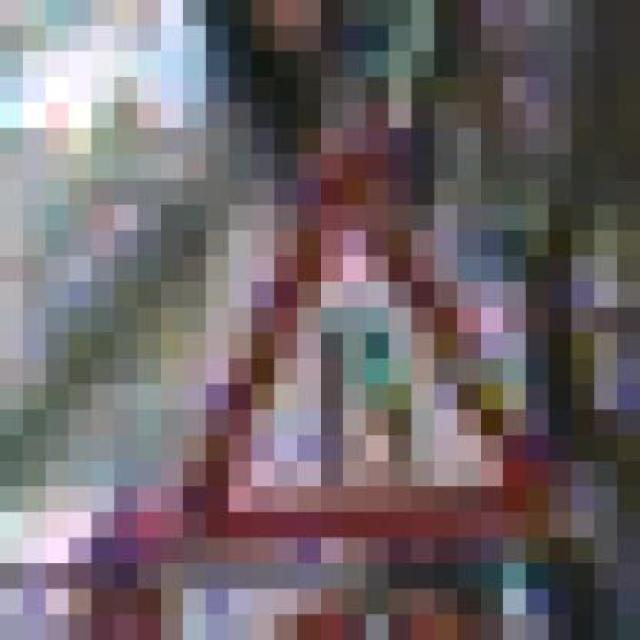-Road narrows on right: (159, 154, 572, 563)
